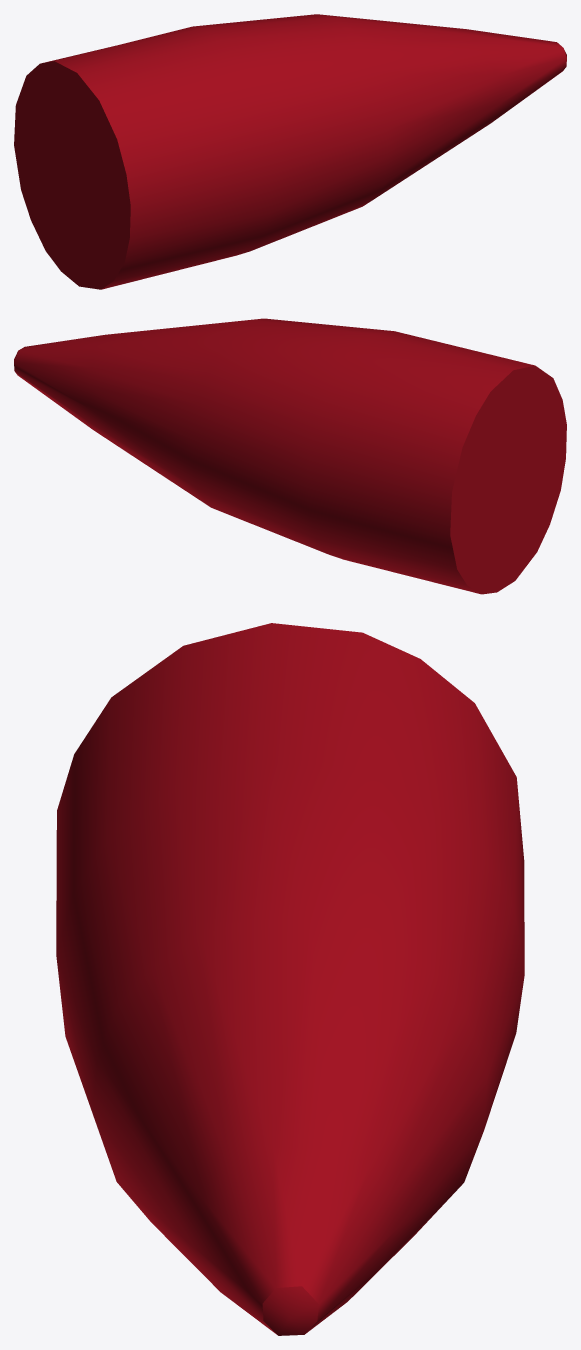
The model's file is bala_materia_vermelha.obj.
3 views of the same model, one above another, from view 1: azimuth 30°, elevation 25°; view 2: azimuth 150°, elevation 25°; view 3: azimuth 270°, elevation 25° (orthographic). The views are drawn at different scales.
Bounding box in the file's own units: 0.0556 × 0.0228 × 0.0228.
